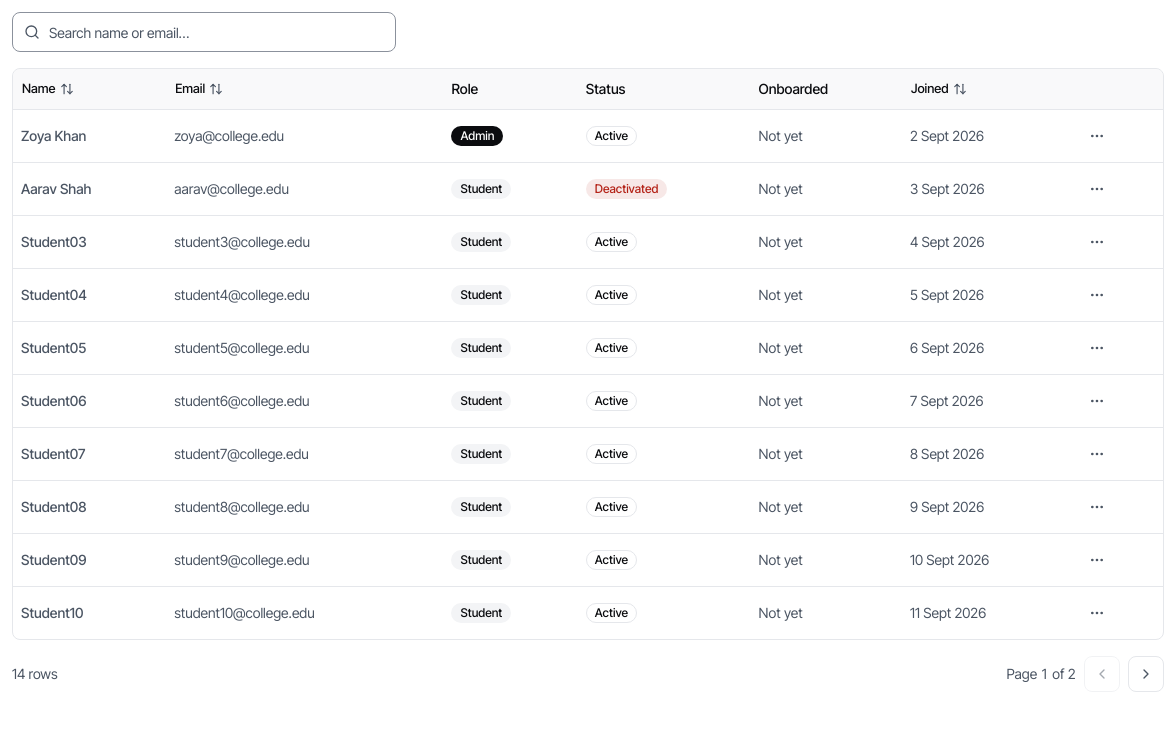
Test: UsersTable › sorts by name and announces the order
Click the button "Name".
click(48, 89)  # box [11,73,84,105]
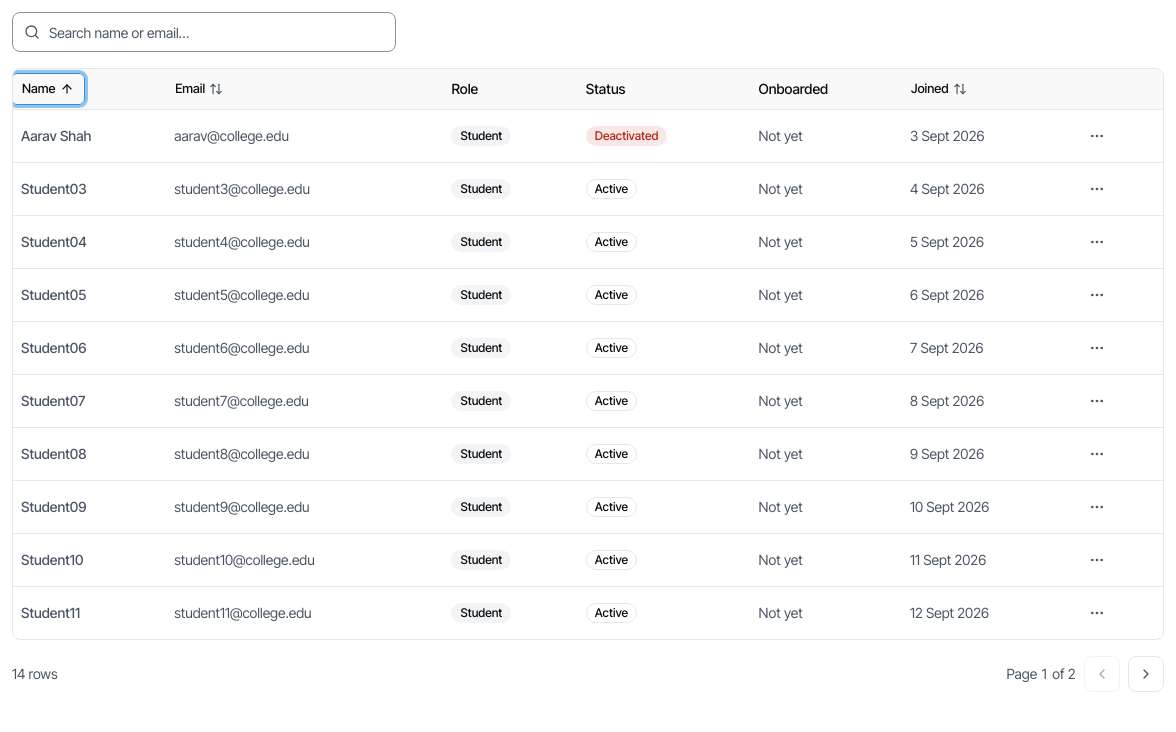
Expected: the text "Aarav Shah" is shown, [21,126,92,144]
Expected: the column heading "Name" has attribute aria-sort="ascending", [13,69,166,109]
Click the button "Name".
click(48, 89)  # box [11,73,84,105]
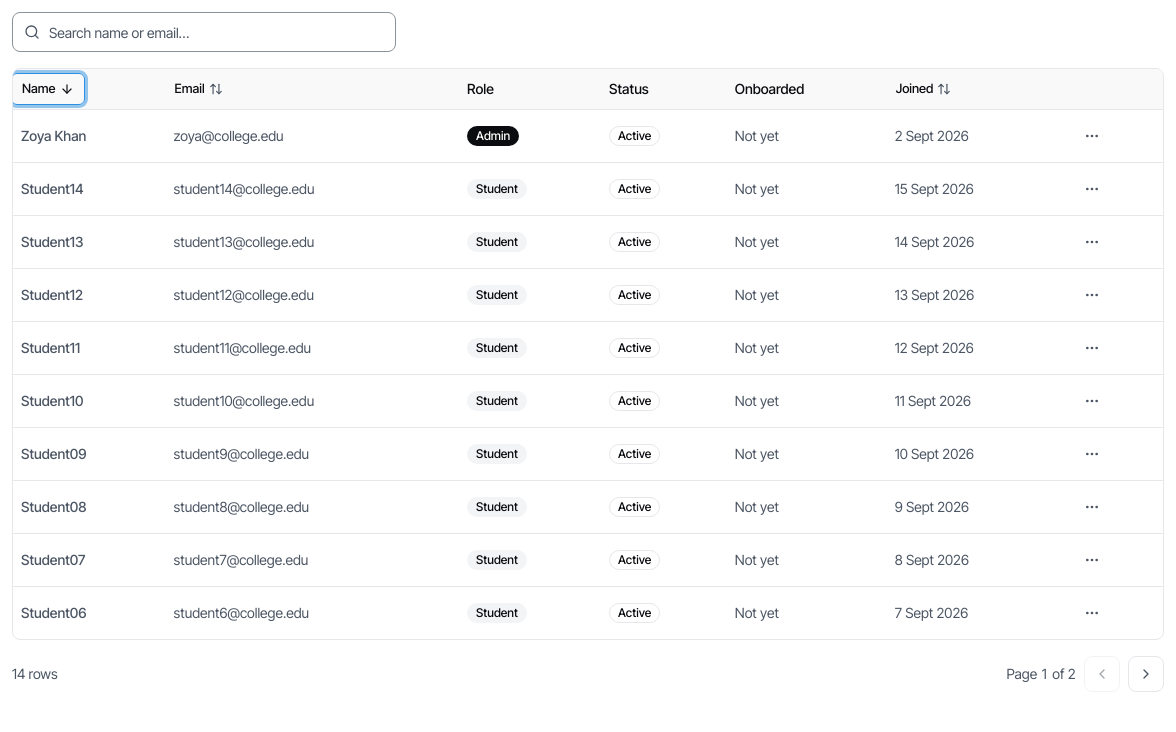
Expected: the text "Zoya Khan" is shown, [21,126,86,144]
